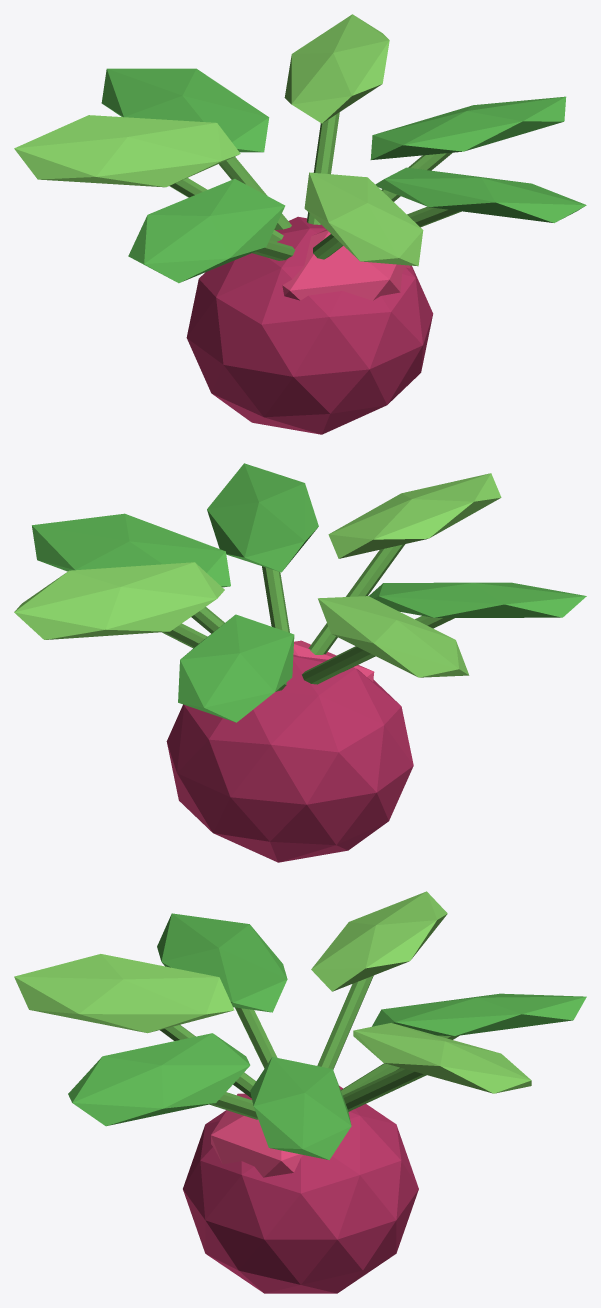
Rendered from Beet.glb.
3 renders of one model, top to bottom at view 1: azimuth 30°, elevation 25°; view 2: azimuth 150°, elevation 25°; view 3: azimuth 270°, elevation 25°, orthographic.
Visible parts, largest first — view 1: FTF_Plant_Beet_Mature_Mesh; view 2: FTF_Plant_Beet_Mature_Mesh; view 3: FTF_Plant_Beet_Mature_Mesh.
Part boxes in pixels (<box>): FTF_Plant_Beet_Mature_Mesh: <box>14,14,586,434</box>; FTF_Plant_Beet_Mature_Mesh: <box>14,463,586,862</box>; FTF_Plant_Beet_Mature_Mesh: <box>14,891,586,1293</box>.
Bounding box in the file's own units: 1.42 × 0.8175 × 1.46.
